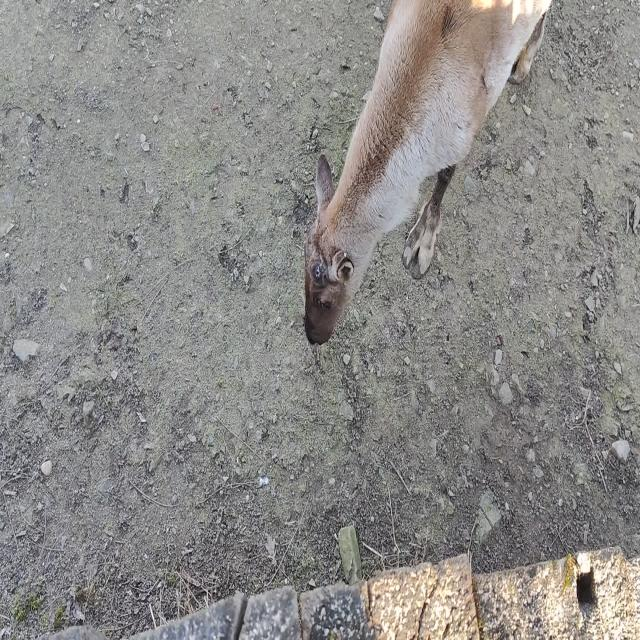deer: (304, 0, 553, 345)
